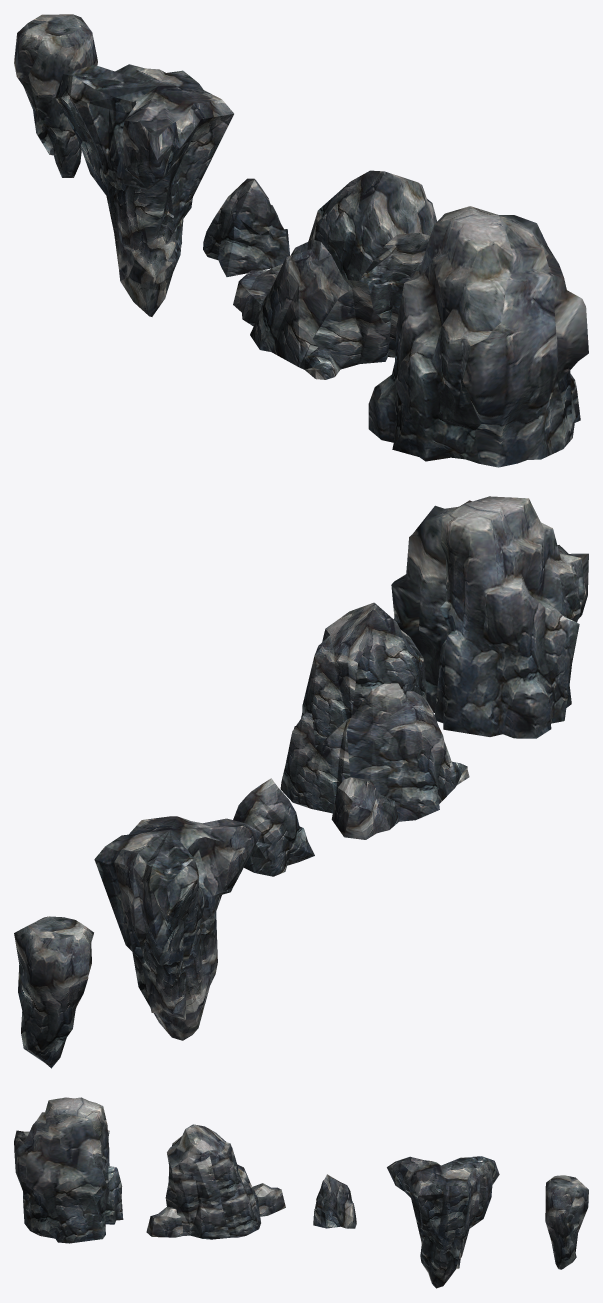
File: d_103_Stone.FBX
The picture shows the model from 3 angles, top to bottom: view 1: azimuth 30°, elevation 25°; view 2: azimuth 150°, elevation 25°; view 3: azimuth 270°, elevation 25°; orthographic projection. The views are drawn at different scales.
Visible parts, largest first — view 1: d_103_Stone_04, d_103_Stone_03, d_103_Stone_01, d_103_Stone_05, d_103_Stone_02; view 2: d_103_Stone_04, d_103_Stone_03, d_103_Stone_01, d_103_Stone_05, d_103_Stone_02; view 3: d_103_Stone_04, d_103_Stone_03, d_103_Stone_01, d_103_Stone_05, d_103_Stone_02.
Part boxes in pixels (box(x1,y1,x2,y2)): d_103_Stone_04: box(368, 206, 588, 467); d_103_Stone_03: box(233, 170, 436, 379); d_103_Stone_01: box(55, 64, 233, 316); d_103_Stone_05: box(14, 14, 97, 177); d_103_Stone_02: box(203, 178, 289, 276); d_103_Stone_04: box(391, 496, 588, 738); d_103_Stone_03: box(280, 602, 469, 839); d_103_Stone_01: box(94, 816, 261, 1040); d_103_Stone_05: box(14, 916, 93, 1068); d_103_Stone_02: box(233, 778, 314, 876); d_103_Stone_04: box(14, 1097, 123, 1243); d_103_Stone_03: box(146, 1124, 285, 1239); d_103_Stone_01: box(387, 1156, 499, 1288); d_103_Stone_05: box(545, 1175, 588, 1269); d_103_Stone_02: box(313, 1174, 356, 1228).
Size of the model in its own units: 756 by 1361 by 3806.
